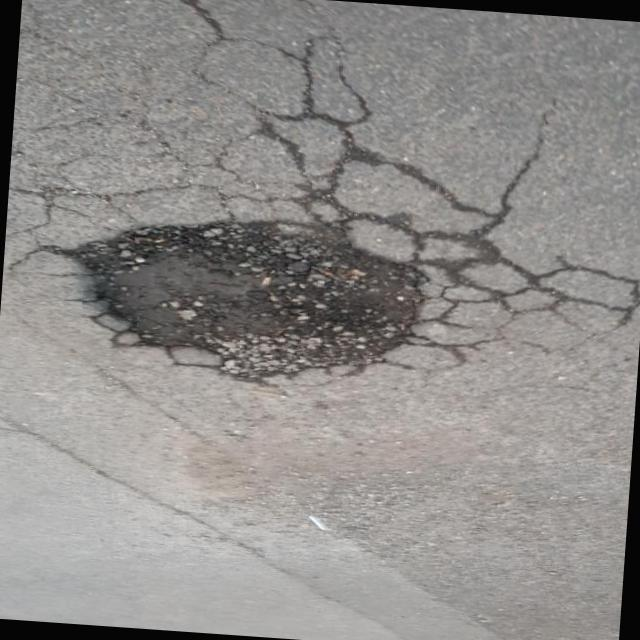pothole: (43, 198, 446, 402)
